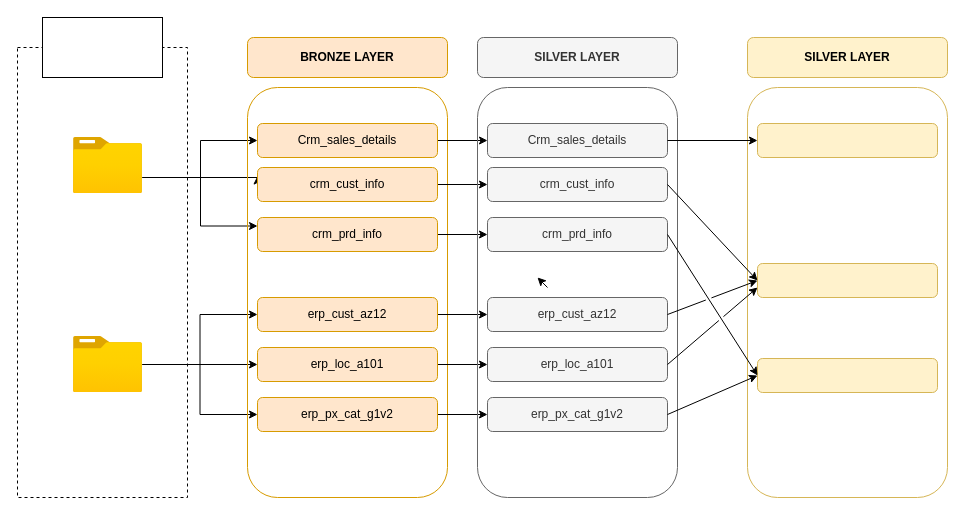
The diagram is 965 pixels wide and 515 high, and some of its shapes have lost their labels. The box of each missing label's shape, as (x1, y1, x2, y2) in pixels:
CRM: (73, 137, 142, 193)
dim_customers: (756, 262, 938, 298)
dim_products: (756, 358, 938, 392)
ERP: (73, 336, 142, 392)
fact_sales: (756, 122, 938, 158)
SOURCE: (42, 16, 162, 78)
